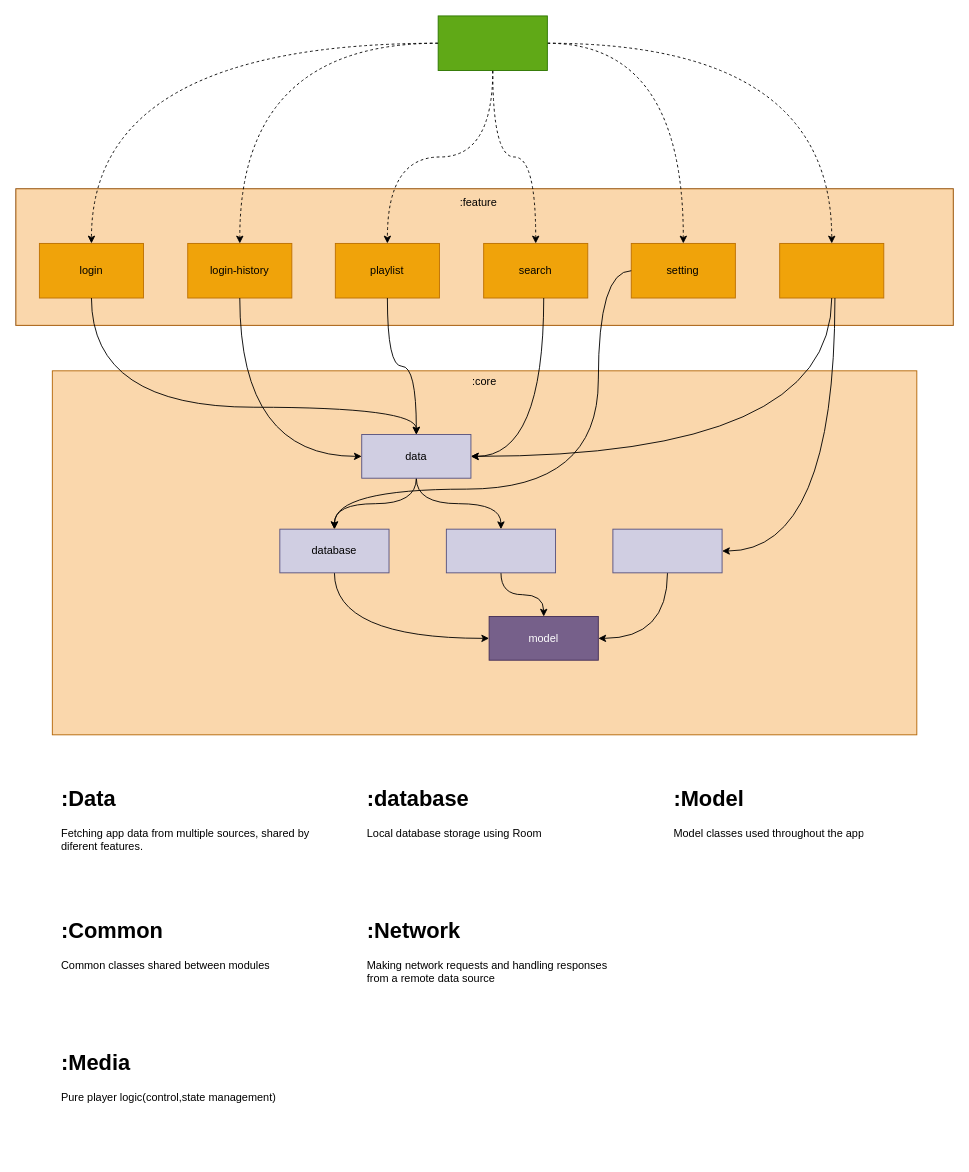
This 969x1172 diagram has some shape labels left out. The shapes that lost their labels are listed below. From the top down, each one's box as (x1, y1, x2, y2) in pixels, then its label:
(437, 15, 547, 71): app
(779, 243, 884, 298): player
(445, 528, 556, 573): network
(612, 528, 722, 573): media
